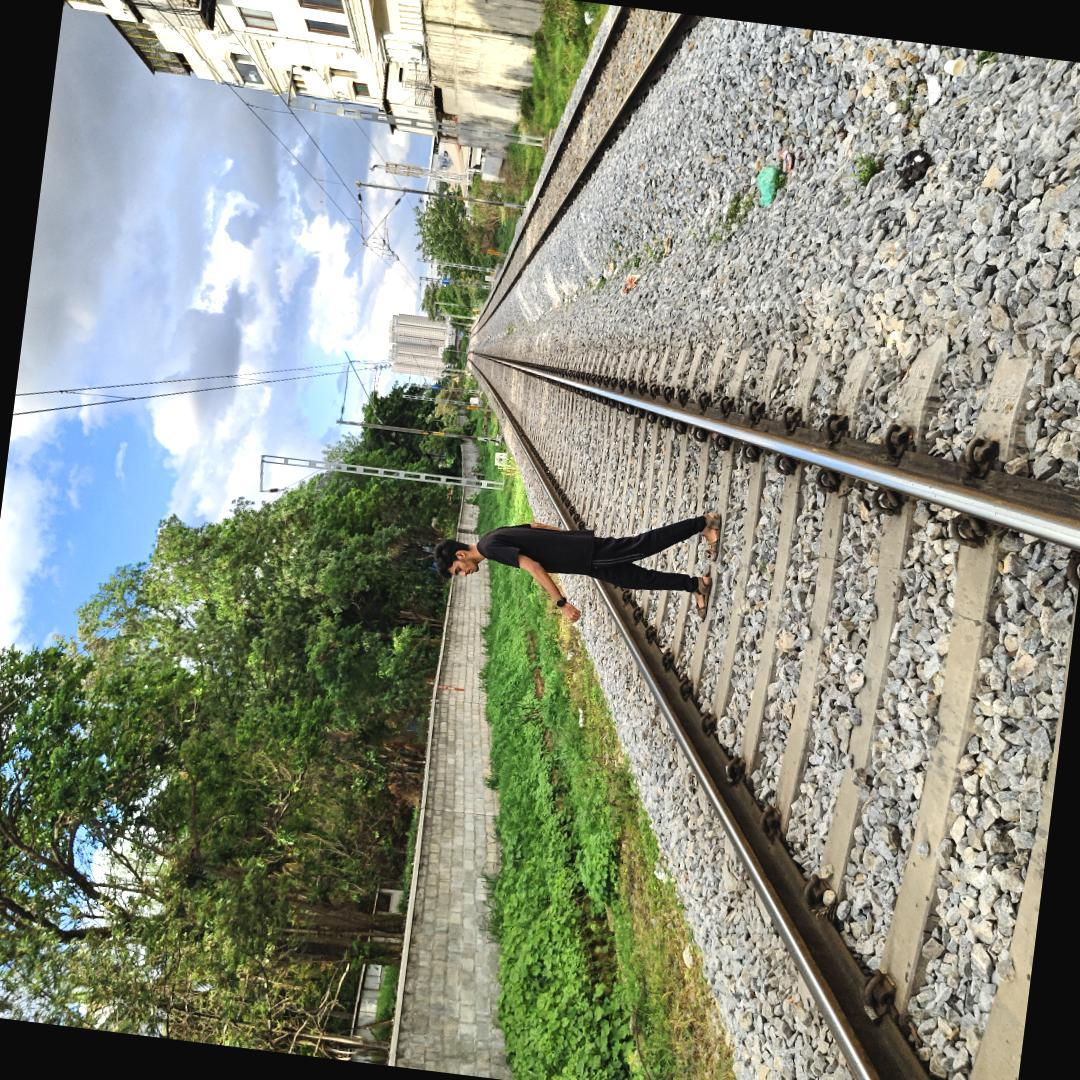standing: (422, 495, 727, 634)
